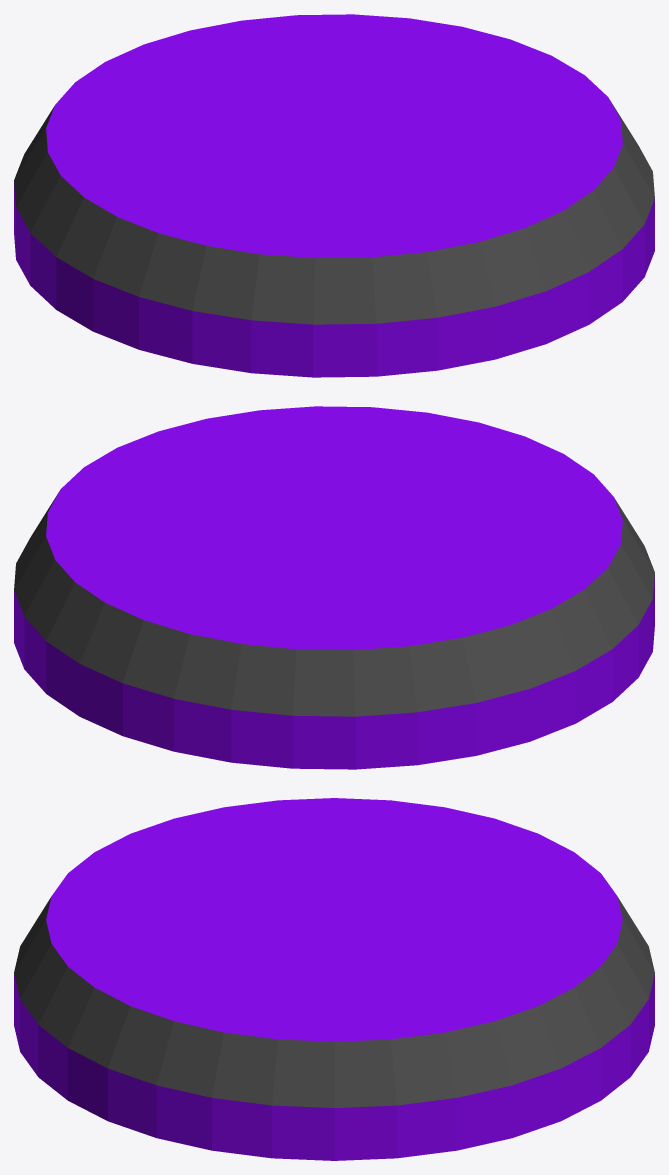
The model's file is Button.dae.
3 views of the same model, one above another, from view 1: azimuth 30°, elevation 25°; view 2: azimuth 150°, elevation 25°; view 3: azimuth 270°, elevation 25° (orthographic).
Visible parts, largest first — view 1: Cylinder.001; view 2: Cylinder.001; view 3: Cylinder.001.
Boxes of the visible parts, <box> form: Cylinder.001: <box>14,14,654,377</box>; Cylinder.001: <box>14,406,654,769</box>; Cylinder.001: <box>14,798,654,1160</box>.
Size of the model in its own units: 2.75 by 2.75 by 0.5.
